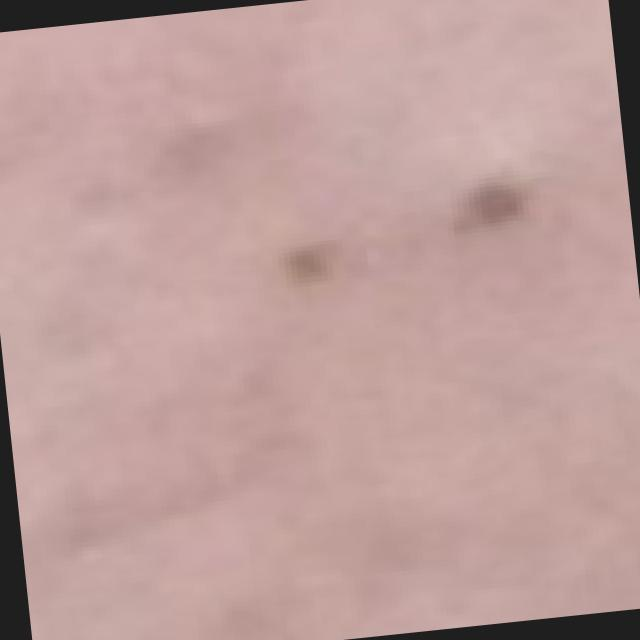blackhead: (466, 178, 529, 230), (277, 243, 331, 291), (448, 217, 472, 236)
